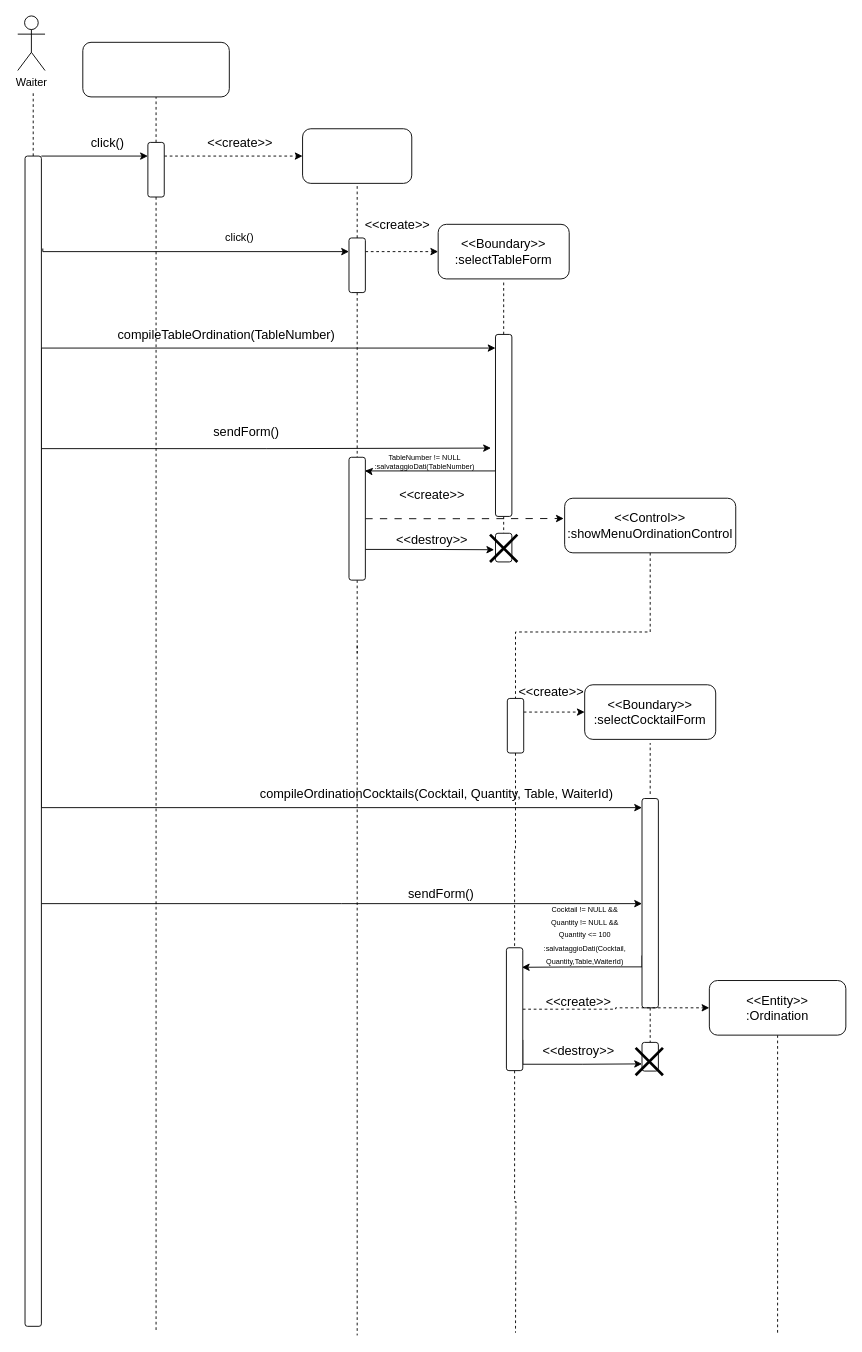
Image size: 862x1352. Some labels were removed from this diagram. Here are the shapes that lost their labels. From the top down, the centre of each, then its label:
At (155,69): "<<Boundary>> :newOrdinationButton".
At (357,155): "<<Control>> :selectTableControl".
